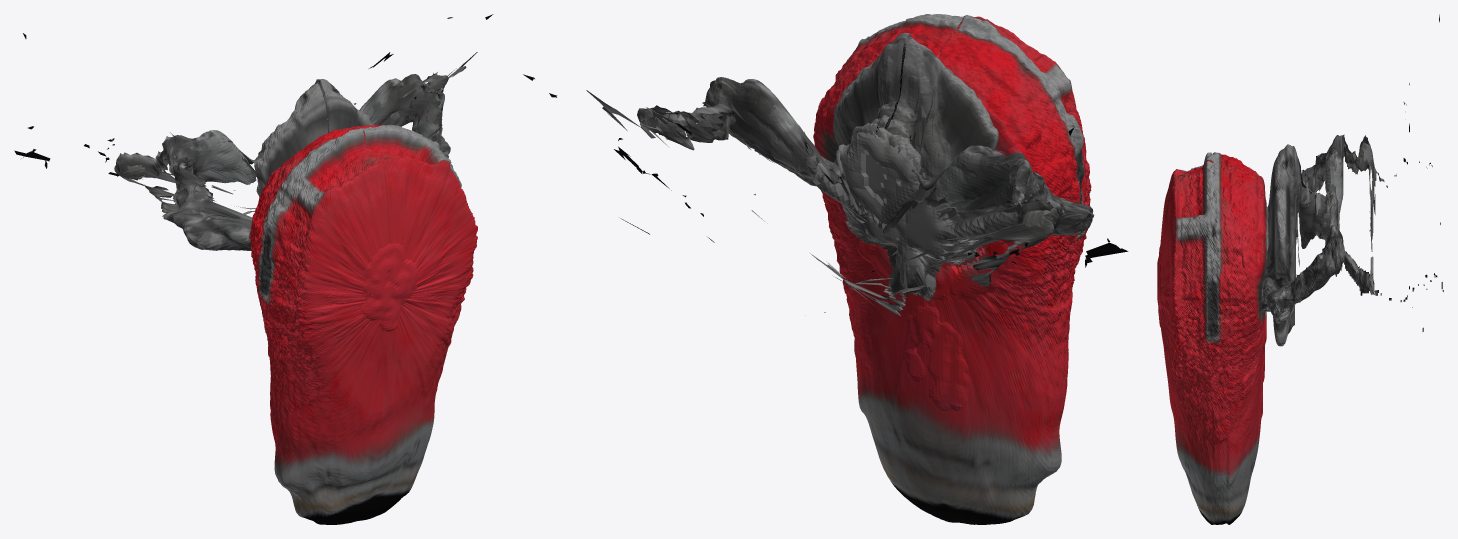
The model's file is volume2_mesh.glb.
The picture shows the model from 3 angles, left to right: view 1: azimuth 30°, elevation 25°; view 2: azimuth 150°, elevation 25°; view 3: azimuth 270°, elevation 25°; orthographic projection. The views are drawn at different scales.
Parts seen in each view (by area): view 1: ipn, fill; view 2: ipn, fill; view 3: ipn, fill.
Part boxes in pixels (left/top/right/bottom): ipn: left=14, top=14, right=493, bottom=524; fill: left=120, top=77, right=445, bottom=331; ipn: left=523, top=14, right=1128, bottom=524; fill: left=652, top=55, right=1087, bottom=411; ipn: left=1159, top=14, right=1443, bottom=524; fill: left=1157, top=141, right=1372, bottom=417.
Size of the model in its own units: 1.62 by 1.46 by 0.9216.
2 materials, 1 textured.
